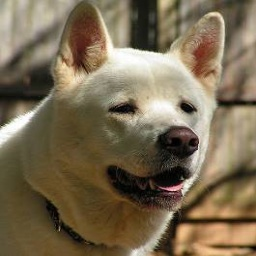dog: (3, 2, 223, 256)
